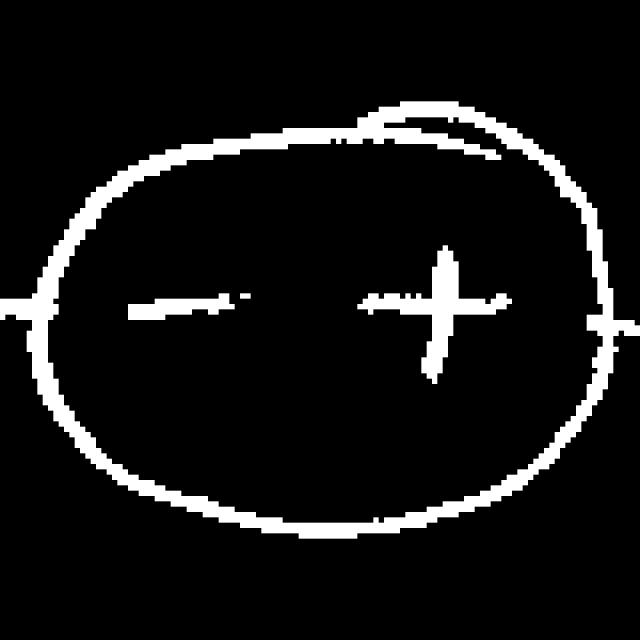voltage_source: (24, 86, 618, 555)
